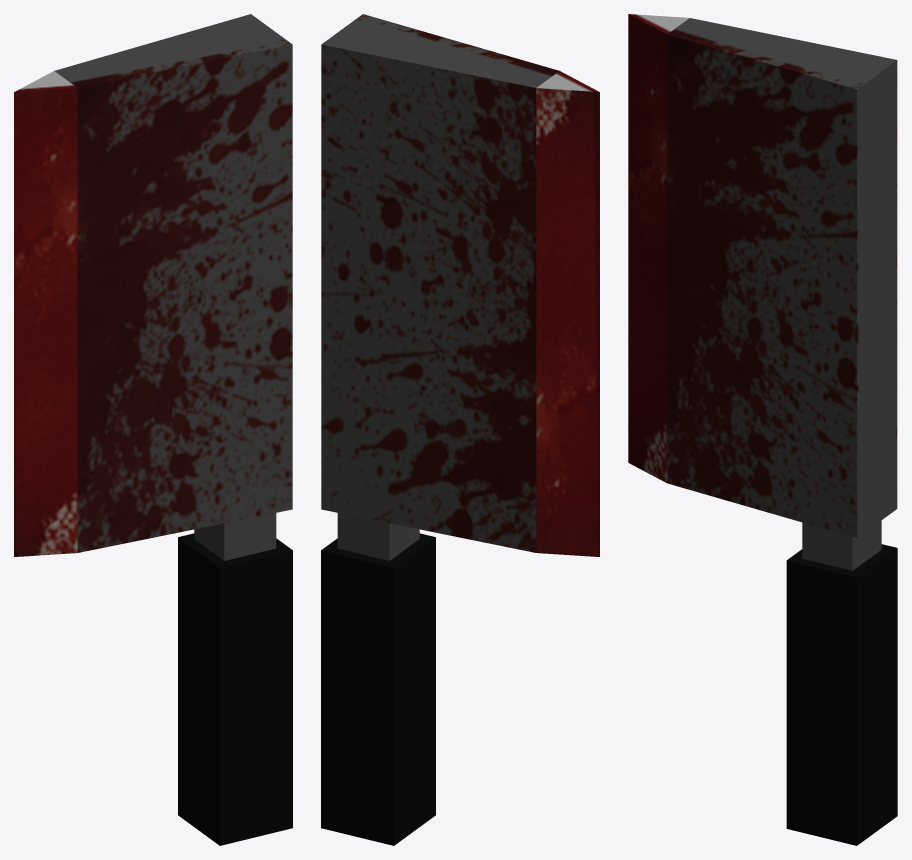
The model's file is coutelas3_PLY.fbx.
3 renders of one model, left to right at view 1: azimuth 30°, elevation 25°; view 2: azimuth 150°, elevation 25°; view 3: azimuth 330°, elevation 25°, orthographic. The views are drawn at different scales.
Visible parts, largest first — view 1: coutelas3_PLY; view 2: coutelas3_PLY; view 3: coutelas3_PLY.
Part boxes in pixels (x1,y1,x2,y2): coutelas3_PLY: (14, 14, 292, 845); coutelas3_PLY: (321, 14, 599, 845); coutelas3_PLY: (628, 14, 897, 845).
Bounding box in the file's own units: 0.5928 × 1.72 × 0.1677.
